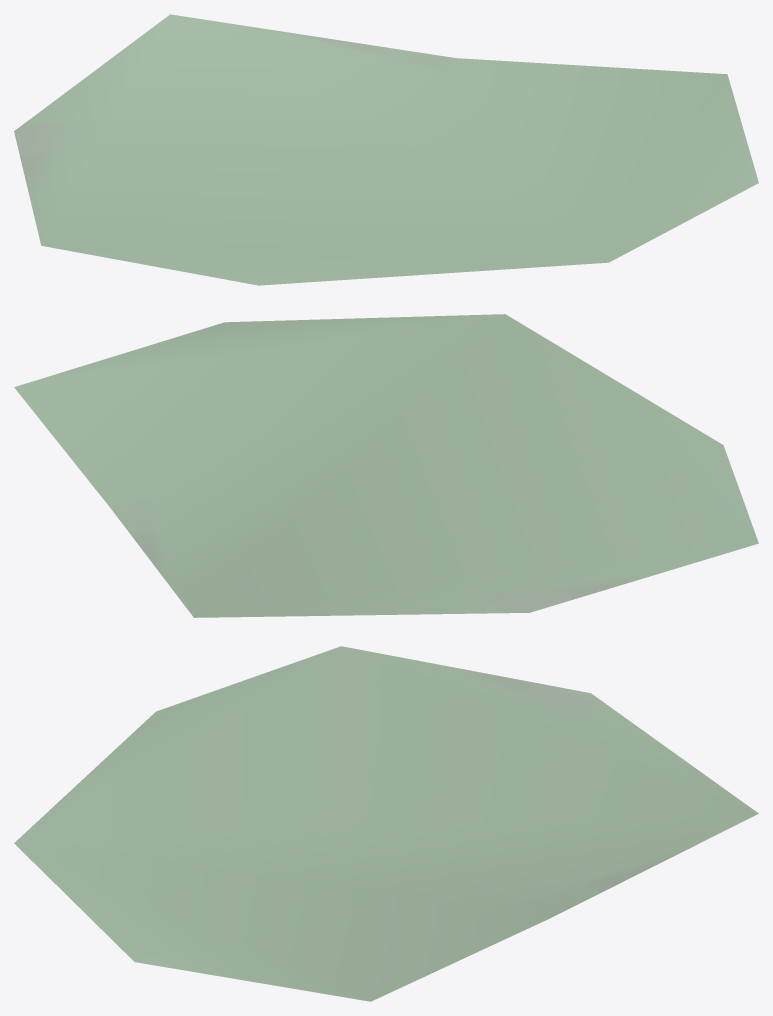
File: TROLLHOLE02_HOLECAP128.fbx
The picture shows the model from 3 angles, top to bottom: view 1: azimuth 30°, elevation 25°; view 2: azimuth 150°, elevation 25°; view 3: azimuth 270°, elevation 25°; orthographic projection. The views are drawn at different scales.
Parts seen in each view (by area): view 1: TROLLHOLE02_HOLECAP128; view 2: TROLLHOLE02_HOLECAP128; view 3: TROLLHOLE02_HOLECAP128.
Part boxes in pixels (<box>): TROLLHOLE02_HOLECAP128: <box>14,14,758,285</box>; TROLLHOLE02_HOLECAP128: <box>14,314,758,617</box>; TROLLHOLE02_HOLECAP128: <box>14,646,758,1001</box>.
Bounding box in the file's own units: 33078 × 818 × 30154.
1 material, 1 textured.
